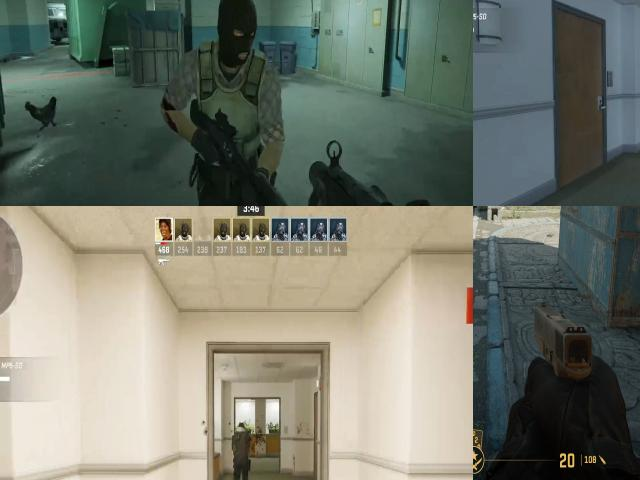CT: (232, 415, 256, 467)
CT-Head: (234, 420, 248, 434), (545, 229, 555, 241)
T: (178, 26, 276, 196)
T-Head: (196, 0, 265, 65)
